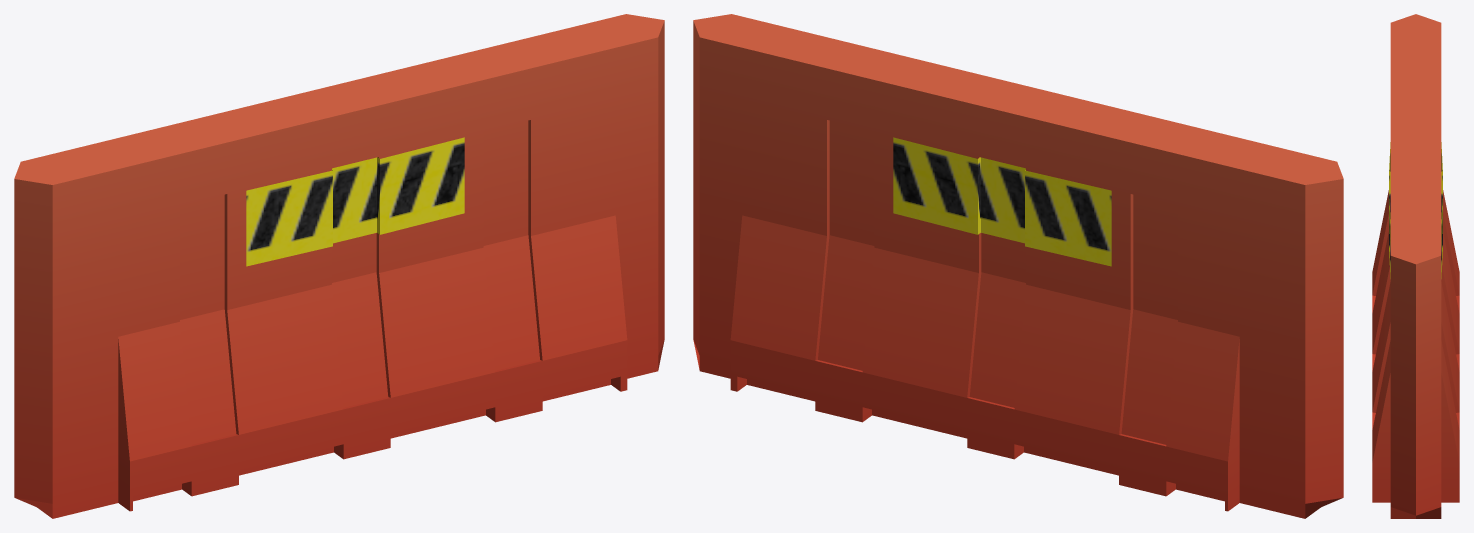
File: Pembatas.fbx
3 views of the same model, side by side, from view 1: azimuth 30°, elevation 25°; view 2: azimuth 150°, elevation 25°; view 3: azimuth 270°, elevation 25° (orthographic). The views are drawn at different scales.
Parts seen in each view (by area): view 1: Cube.020; view 2: Cube.020; view 3: Cube.020.
Part boxes in pixels (box(x1,y1,x2,y2)): Cube.020: box(14, 14, 664, 518); Cube.020: box(693, 14, 1343, 518); Cube.020: box(1372, 14, 1459, 518).
Size of the model in its own units: 427 by 209 by 62.87.
